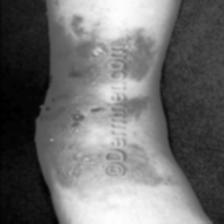Toxin: (41, 18, 109, 184), (127, 144, 162, 186), (125, 28, 151, 84), (124, 92, 145, 124)
